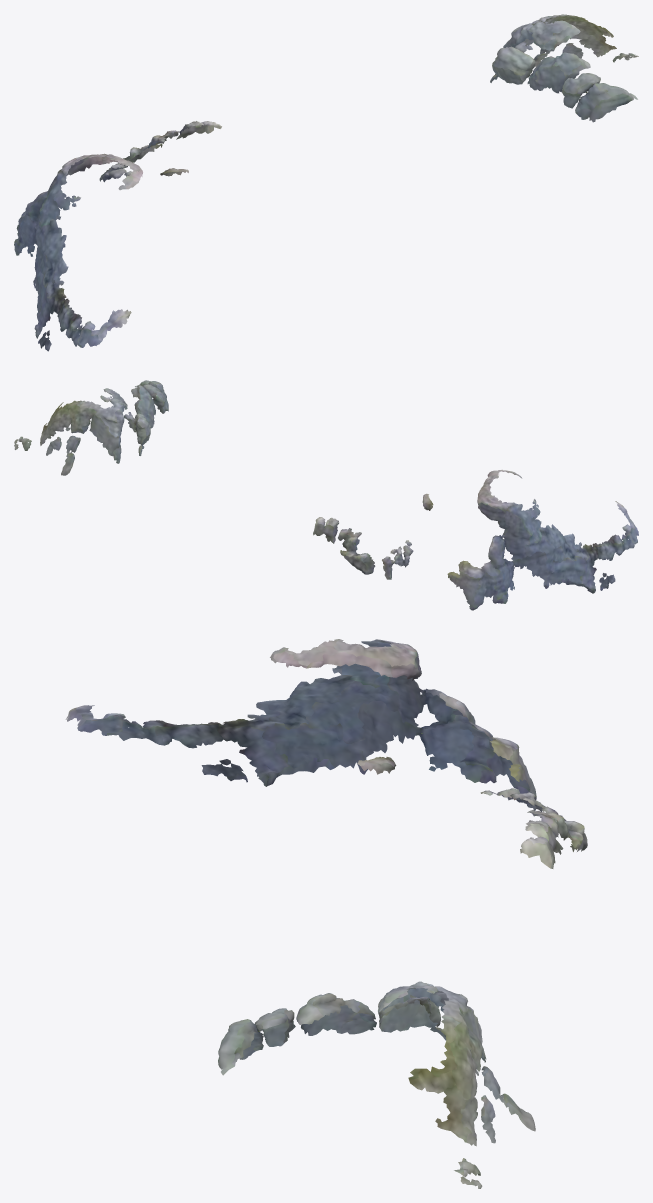
Rendered from tors_green.glb.
3 views of the same model, one above another, from view 1: azimuth 30°, elevation 25°; view 2: azimuth 150°, elevation 25°; view 3: azimuth 270°, elevation 25° (orthographic). The views are drawn at different scales.
Parts seen in each view (by area): view 1: prefab; view 2: prefab; view 3: prefab.
Boxes of the visible parts, <box> form: prefab: <box>14,14,638,351</box>; prefab: <box>14,380,638,610</box>; prefab: <box>65,639,587,1188</box>.
Bounding box in the file's own units: 189 × 39.88 × 79.84.
Materials: 1 (1 with a texture image).
